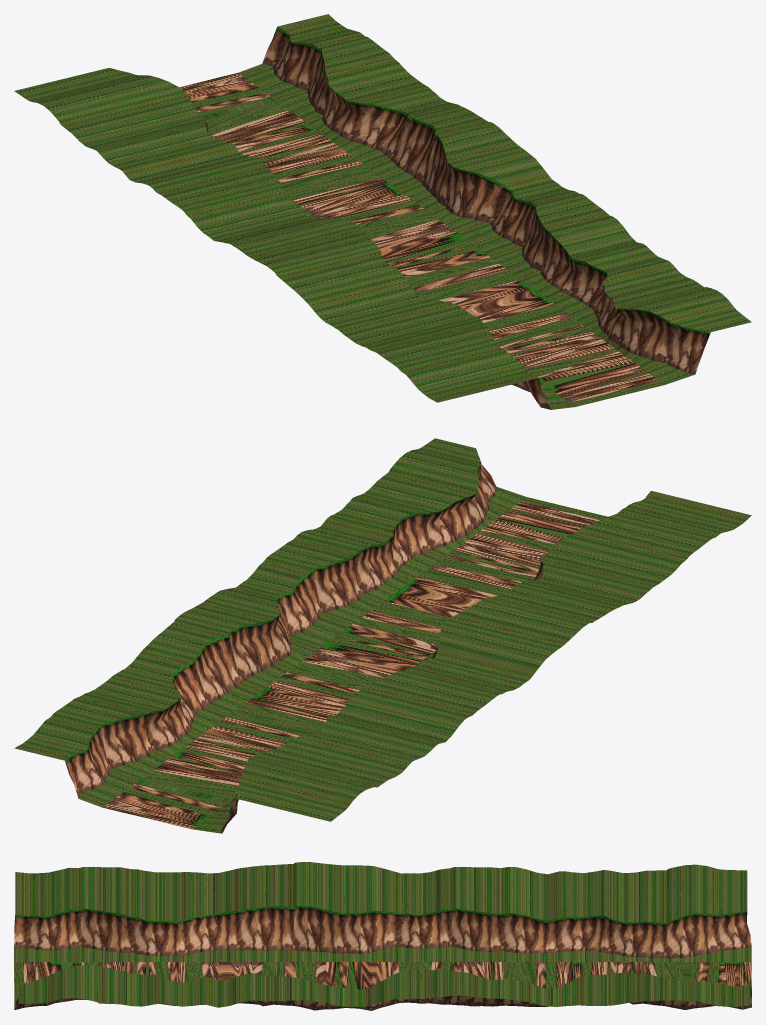
The model's file is canyon.obj.
The picture shows the model from 3 angles, top to bottom: view 1: azimuth 30°, elevation 25°; view 2: azimuth 150°, elevation 25°; view 3: azimuth 270°, elevation 25°; orthographic projection. The views are drawn at different scales.
Visible parts, largest first — view 1: Object012; view 2: Object012; view 3: Object012.
Boxes of the visible parts, bbox=[...] form: Object012: bbox=[14, 14, 751, 409]; Object012: bbox=[14, 438, 751, 833]; Object012: bbox=[14, 862, 751, 1010].
Bounding box in the file's own units: 67.6 × 9.96 × 158.
